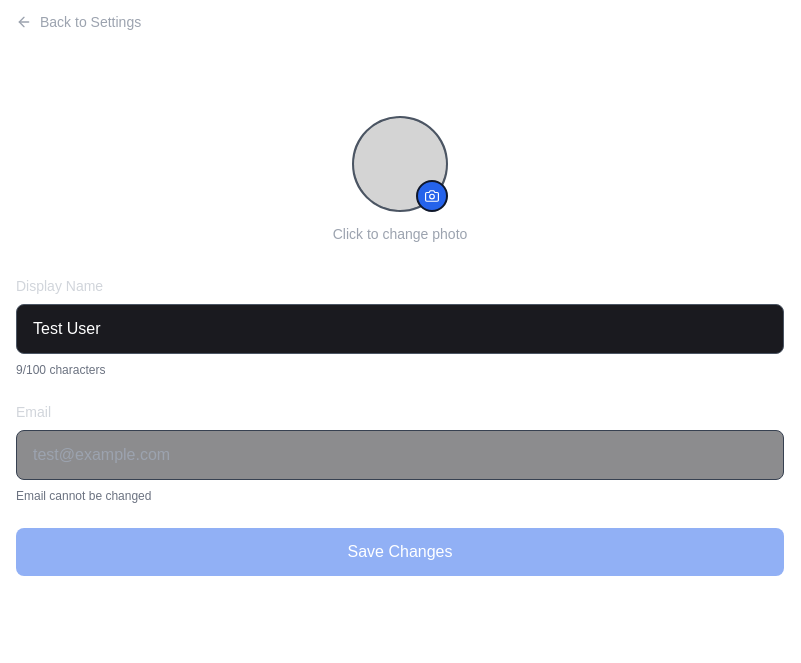
Test: ProfilePage › AC2: Update Display Name › shows success confirmation after update
Replace the text in the field labelled "Display Name" with "New Name" at [400, 329], box [16,304,784,354]
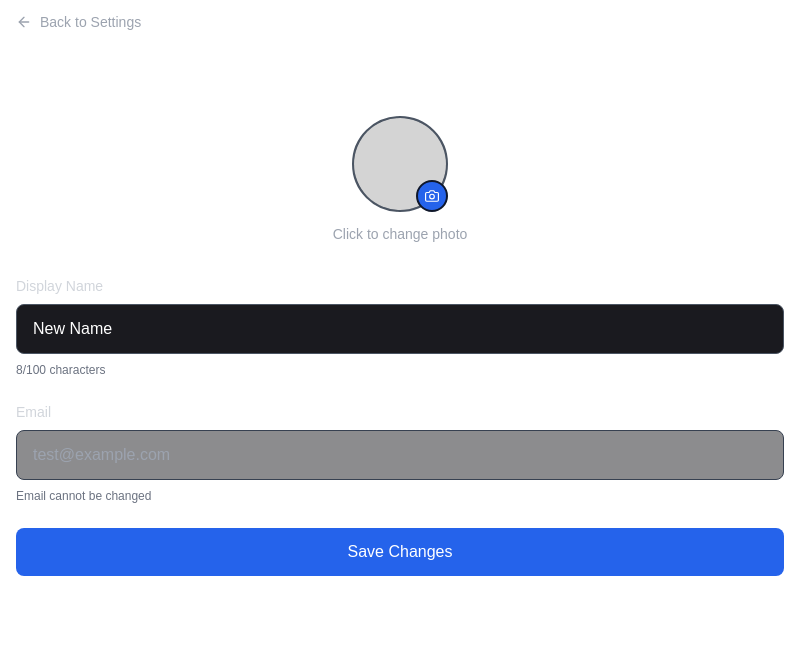
Click the button "Save Changes" at [400, 552], box [16,528,784,576]
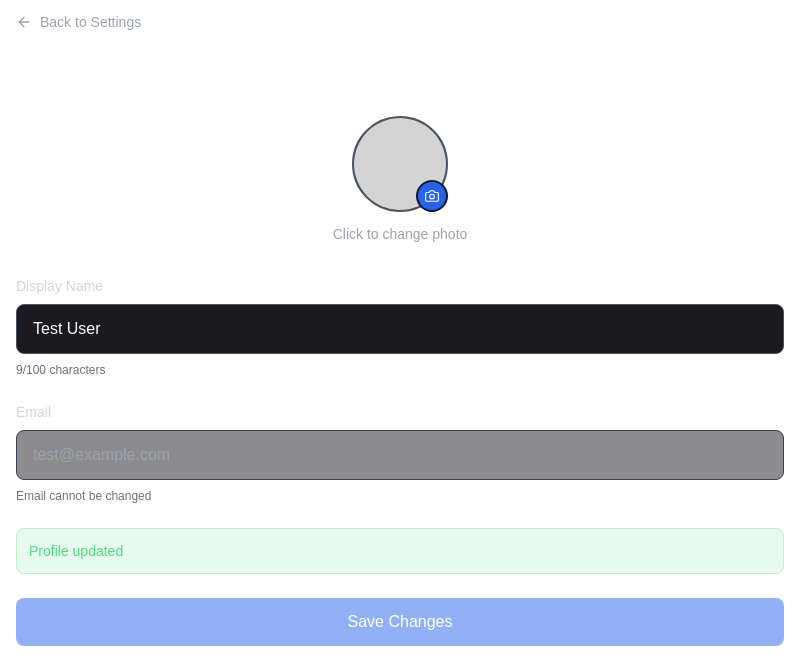
Check: the text "Profile updated" is shown, box [29,543,123,559]
